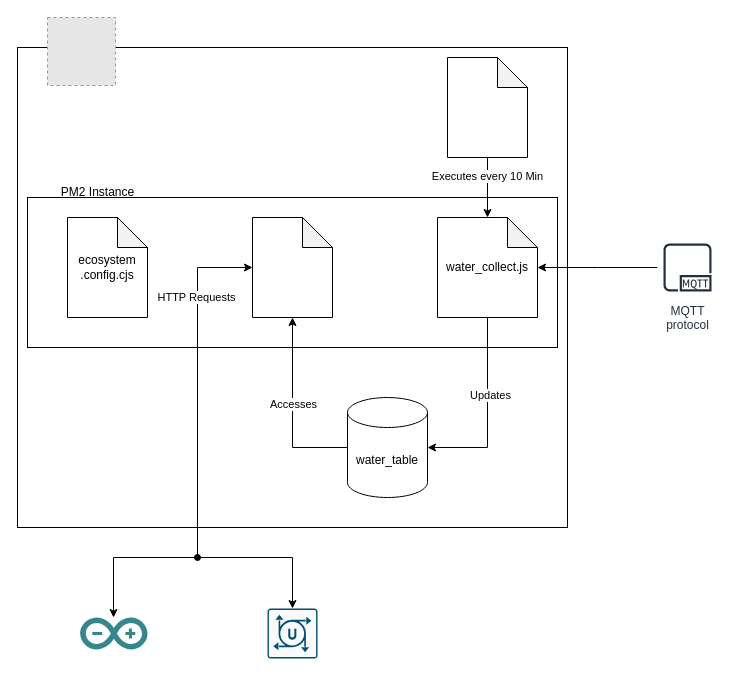
The diagram is 735 pixels wide and 676 high, and some of its shapes have lost their labels. Grey dashed boxes stand in for pictures. Here are the shapes that lost their labels. From the top down, the centre of each, then its label:
(x=487, y=107): Crontab Jobs
(x=292, y=267): server.js
